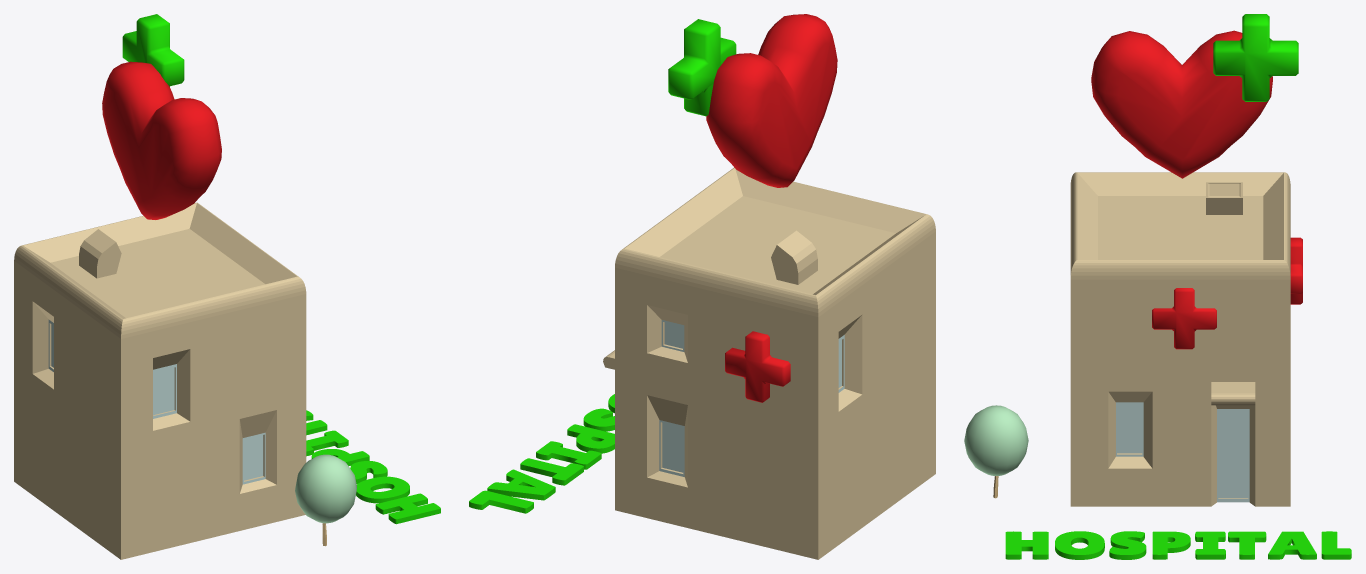
Rendered from Hospital.fbx.
3 views of the same model, side by side, from view 1: azimuth 30°, elevation 25°; view 2: azimuth 150°, elevation 25°; view 3: azimuth 270°, elevation 25° (orthographic). The views are drawn at different scales.
Visible parts, largest first — view 1: Hospital building, Plane, hospital, tree.001; view 2: Hospital building, Plane, hospital; view 3: Hospital building, Plane, hospital, tree.001.
Boxes of the visible parts, box(x1,y1,x2,y2) form: Hospital building: box(14, 202, 306, 559); Plane: box(102, 14, 221, 219); hospital: box(306, 410, 440, 524); tree.001: box(295, 454, 356, 546); Hospital building: box(603, 167, 935, 559); Plane: box(668, 14, 837, 187); hospital: box(469, 394, 614, 513); Hospital building: box(1070, 172, 1302, 506); Plane: box(1091, 14, 1298, 178); hospital: box(1005, 531, 1351, 559); tree.001: box(964, 405, 1028, 498).
Size of the model in its own units: 6.99 by 10.24 by 7.87.
